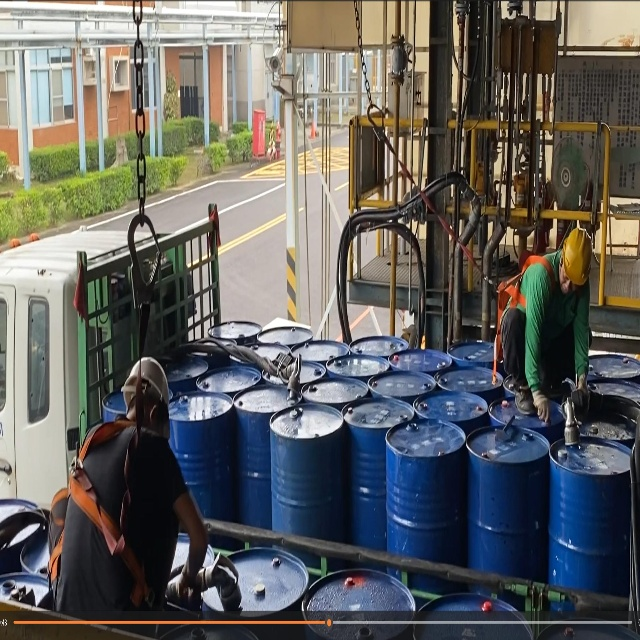Arnes_seguridad: (47, 410, 163, 621), (493, 254, 585, 420)
